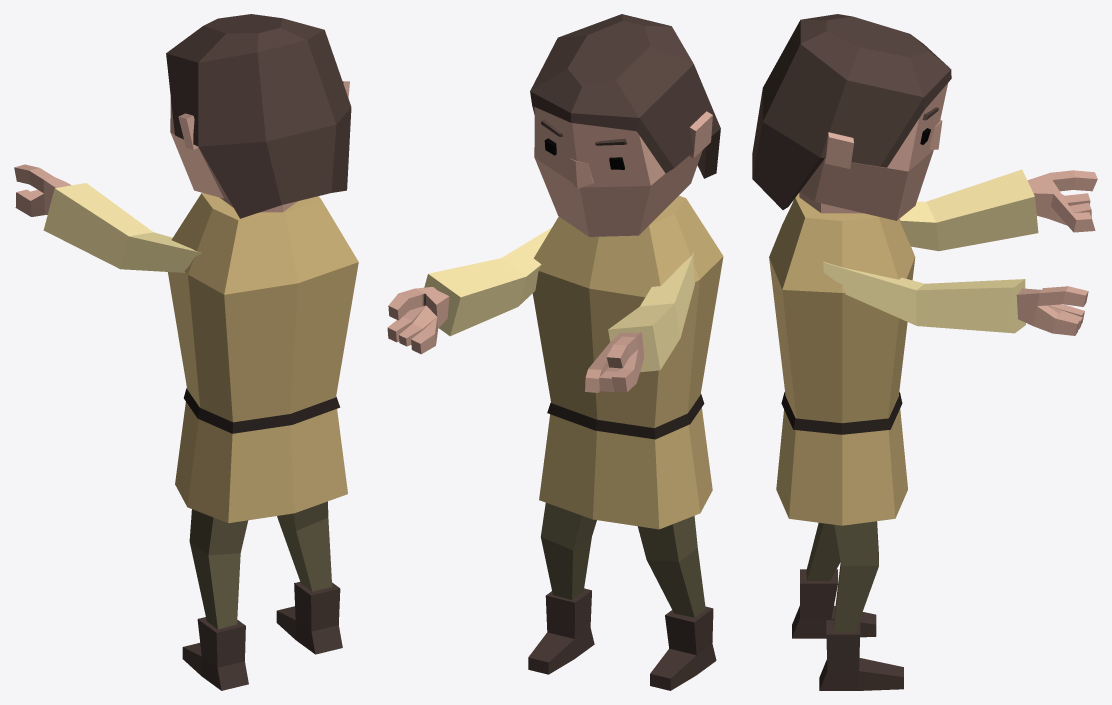
Rendered from homme-2.glb.
The picture shows the model from 3 angles, left to right: view 1: azimuth 30°, elevation 25°; view 2: azimuth 150°, elevation 25°; view 3: azimuth 270°, elevation 25°; orthographic projection.
Parts seen in each view (by area): view 1: Object_2; view 2: Object_2; view 3: Object_2.
Boxes of the visible parts, x1=… form: Object_2: x1=14, y1=14, x2=358, y2=690; Object_2: x1=387, y1=14, x2=723, y2=690; Object_2: x1=752, y1=14, x2=1097, y2=690.
Bounding box in the file's own units: 0.7245 × 1.77 × 0.877.
1 material, 1 textured.
